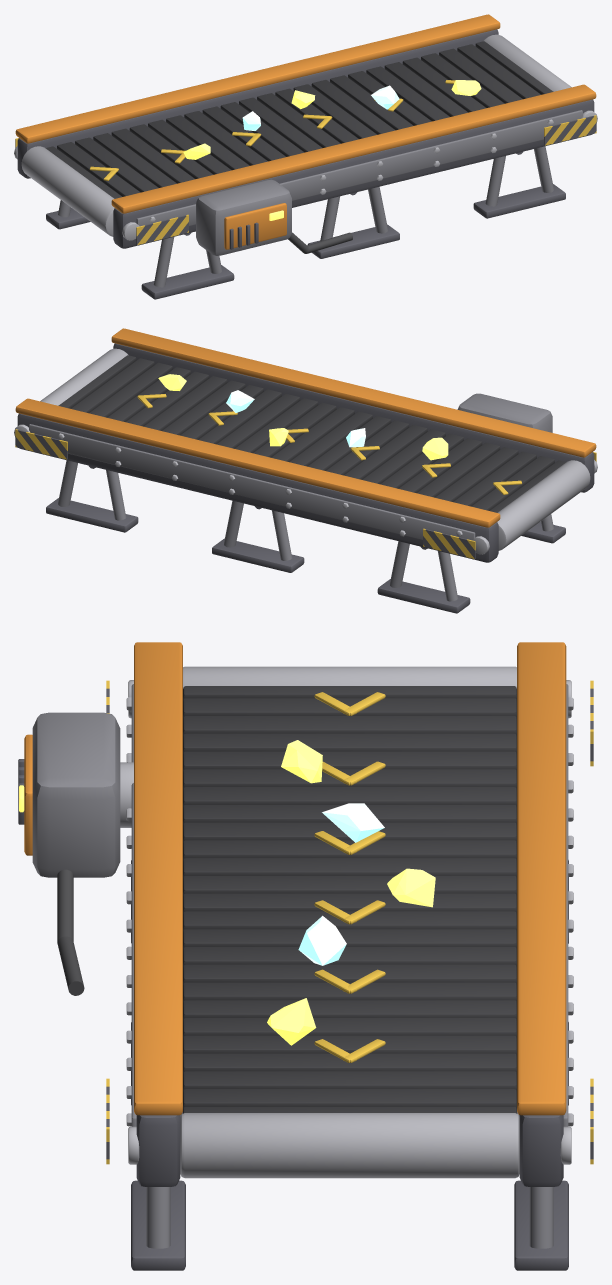
File: Conveyor.glb
The picture shows the model from 3 angles, top to bottom: view 1: azimuth 30°, elevation 25°; view 2: azimuth 150°, elevation 25°; view 3: azimuth 270°, elevation 25°; orthographic projection. The views are drawn at different scales.
Parts seen in each view (by area): view 1: Conveyor; view 2: Conveyor; view 3: Conveyor.
Boxes of the visible parts, box(x1,y1,x2,y2) form: Conveyor: box(14, 14, 597, 299); Conveyor: box(14, 328, 597, 613); Conveyor: box(18, 642, 593, 1270).
Bounding box in the file's own units: 2.05 × 0.4403 × 1.05.
